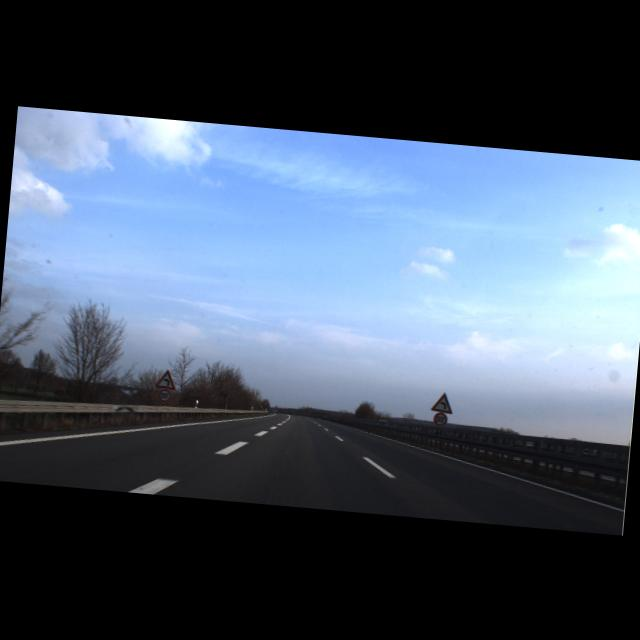danger: (430, 391, 454, 414), (154, 368, 177, 389)
prohibitory: (432, 410, 448, 426), (157, 388, 171, 402)
